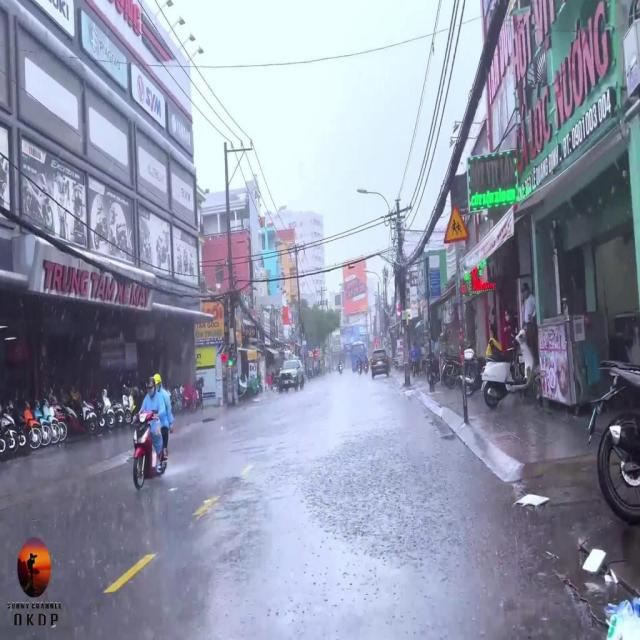chu_y_tre_em: (443, 200, 469, 244)
